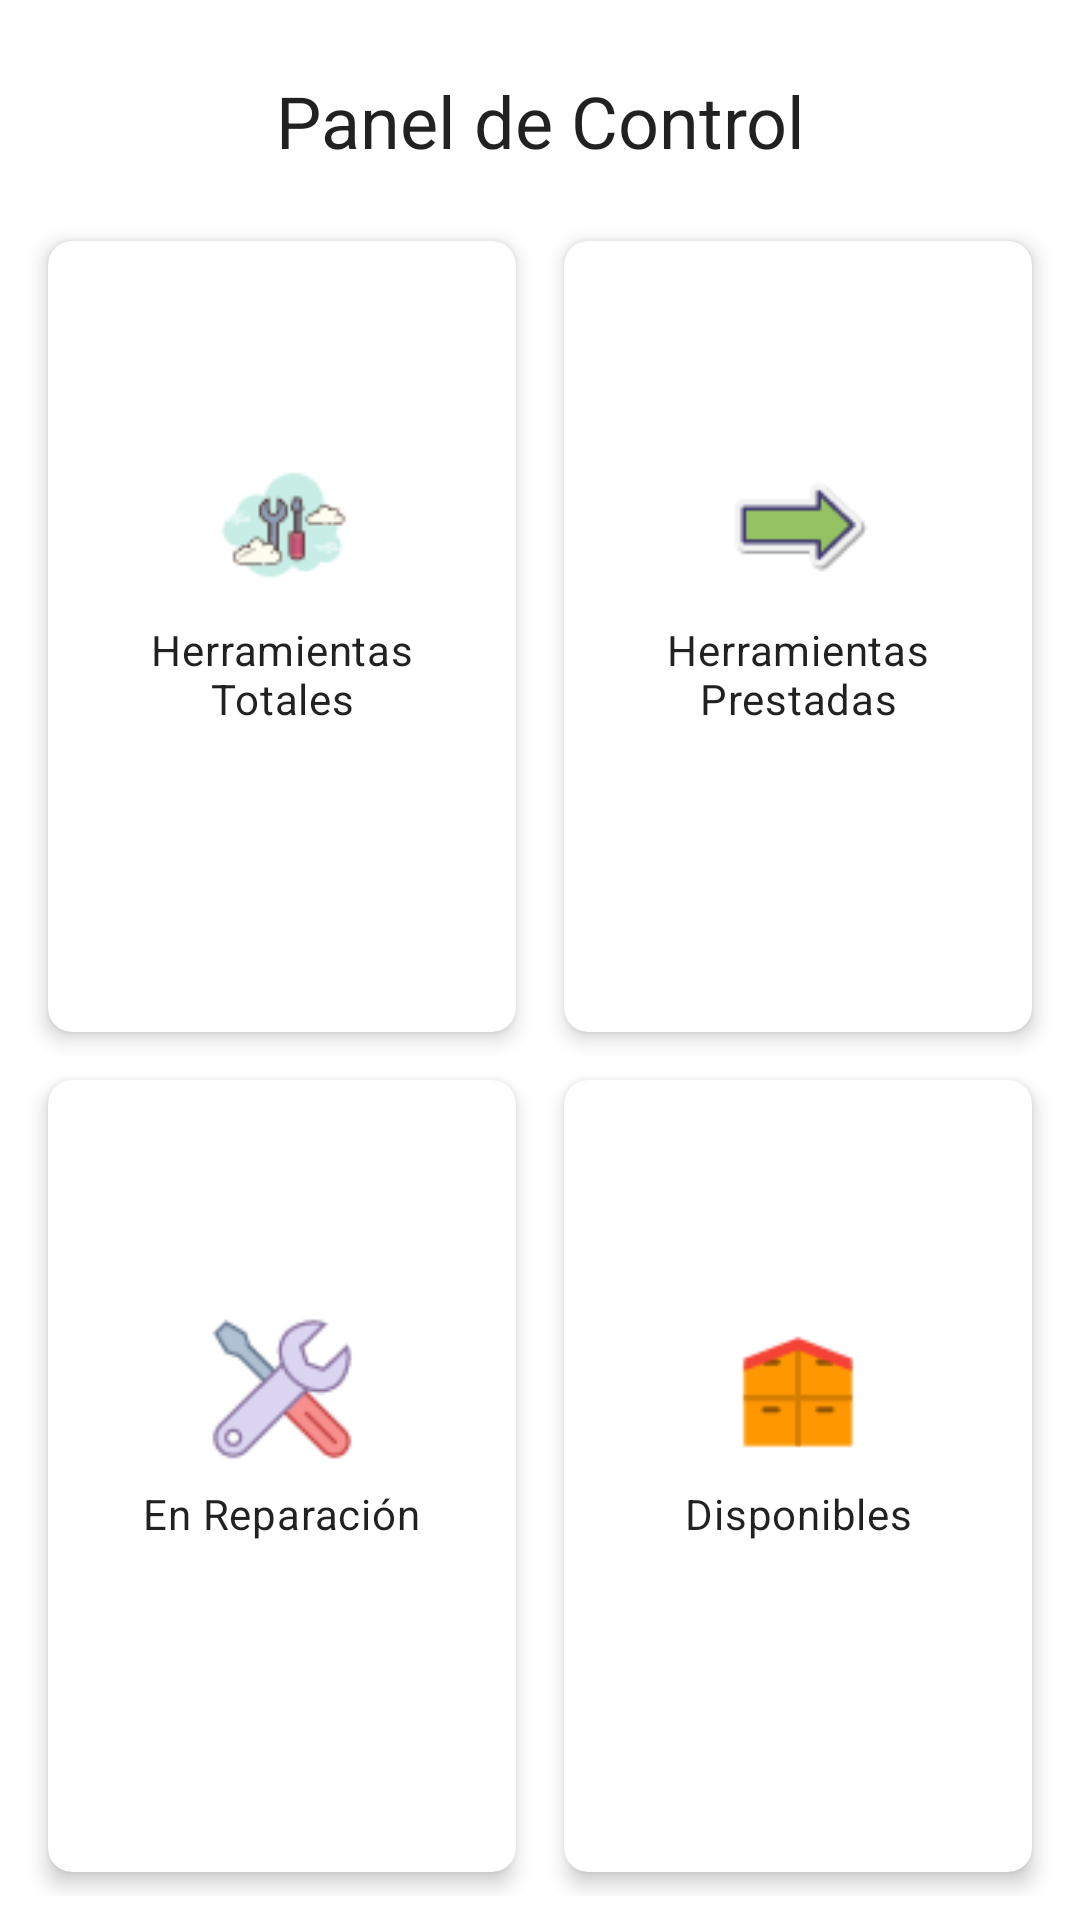

Screen size 1080w x 1920h. Icon name, then its box in pixels as (x1, y1, x2, y2):
stock: (742, 1336, 854, 1448)
